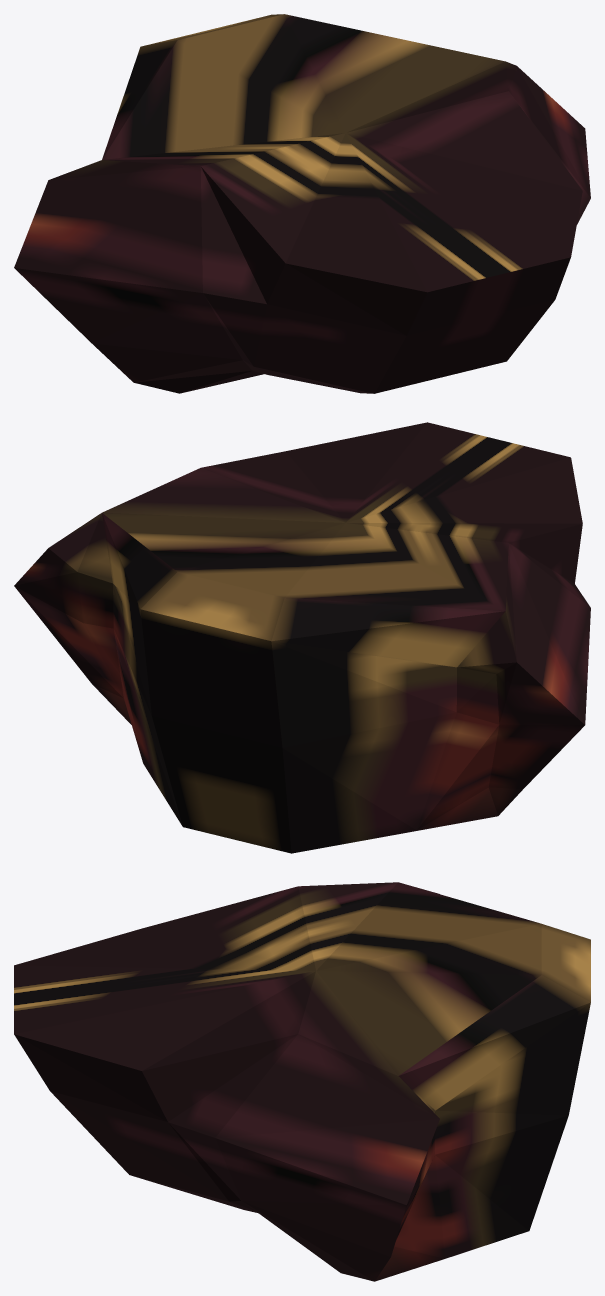
The model's file is GasMask.fbx.
The picture shows the model from 3 angles, top to bottom: view 1: azimuth 30°, elevation 25°; view 2: azimuth 150°, elevation 25°; view 3: azimuth 270°, elevation 25°; orthographic projection.
Parts seen in each view (by area): view 1: Head; view 2: Head; view 3: Head.
Part boxes in pixels (bbox=[...]): Head: bbox=[14, 14, 590, 393]; Head: bbox=[14, 422, 590, 853]; Head: bbox=[14, 882, 590, 1281].
Bounding box in the file's own units: 78.65 × 34.37 × 69.96.
Materials: 1 (1 with a texture image).
